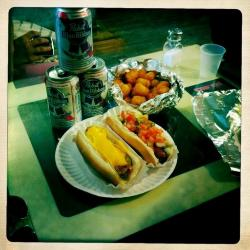hotdog: (73, 105, 143, 201)
